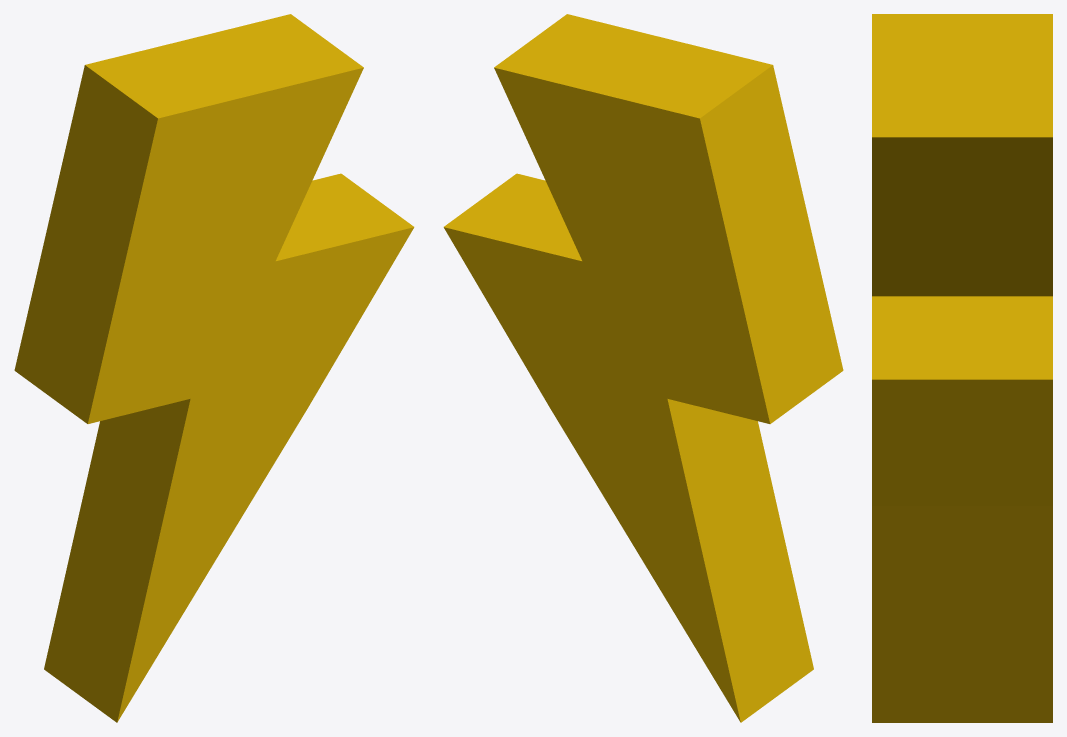
Rendered from speedBoost 1.fbx.
3 views of the same model, side by side, from view 1: azimuth 30°, elevation 25°; view 2: azimuth 150°, elevation 25°; view 3: azimuth 270°, elevation 25° (orthographic). The views are drawn at different scales.
Parts seen in each view (by area): view 1: Cube; view 2: Cube; view 3: Cube.
Boxes of the visible parts, box(x1,y1,x2,y2) form: Cube: box(14, 14, 414, 722); Cube: box(443, 14, 843, 722); Cube: box(872, 14, 1052, 722).
Bounding box in the file's own units: 237 × 412 × 92.01.
